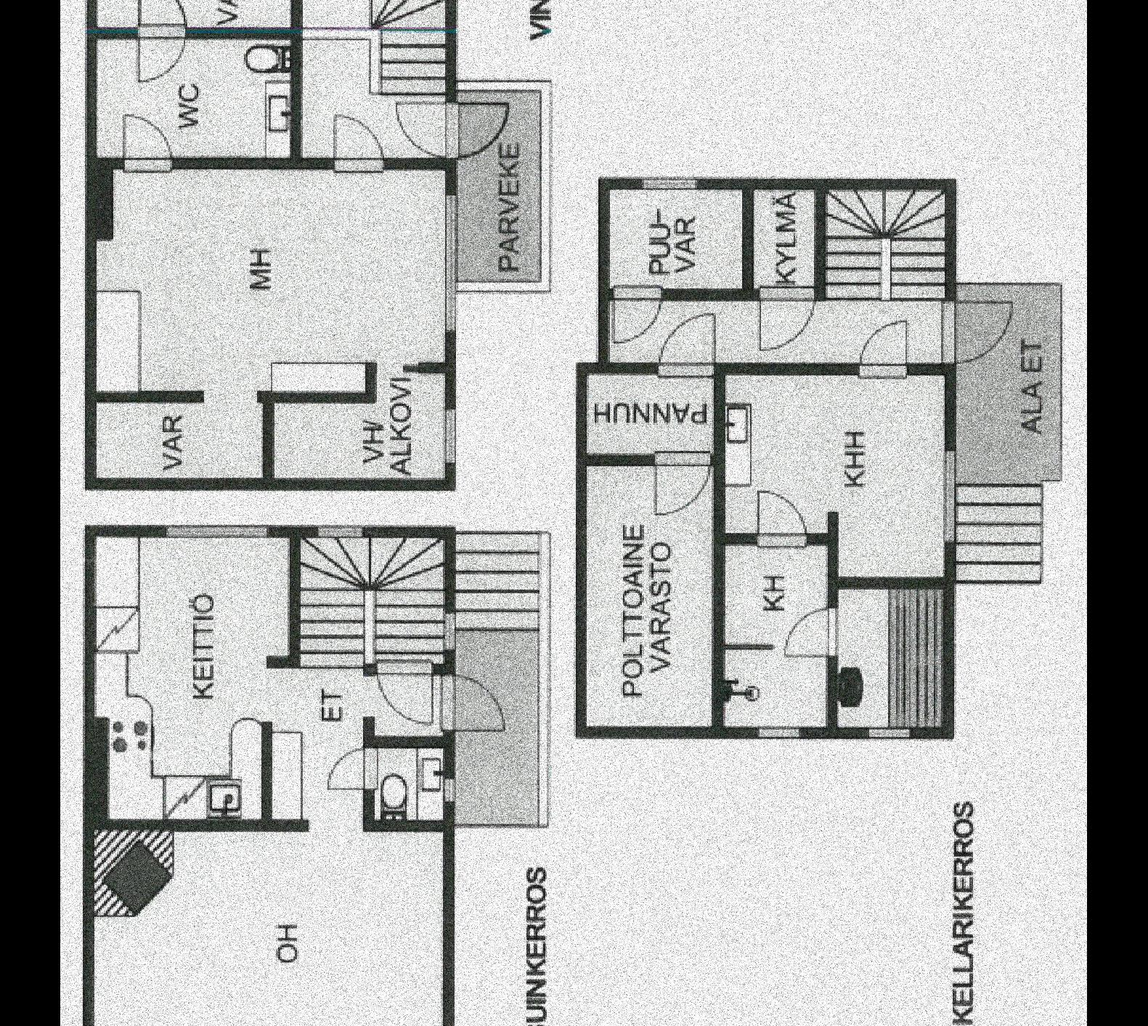door: (394, 91, 510, 153), (377, 635, 446, 725), (934, 293, 1022, 363), (132, 0, 193, 92), (655, 307, 724, 386), (859, 308, 920, 391), (756, 286, 819, 354), (650, 450, 711, 520), (446, 667, 507, 732), (754, 486, 814, 551), (119, 106, 173, 175), (614, 272, 665, 345), (333, 111, 385, 173), (325, 749, 385, 799)
window: (441, 191, 461, 328), (169, 521, 268, 537), (941, 453, 959, 535), (639, 175, 696, 193), (864, 725, 917, 744), (442, 409, 461, 461), (761, 726, 797, 740), (317, 526, 357, 538), (444, 774, 456, 801), (445, 616, 455, 647)
zone: (92, 543, 444, 1026), (95, 167, 446, 479), (730, 378, 942, 586), (589, 459, 708, 727), (452, 531, 541, 822), (296, 0, 446, 156), (98, 39, 286, 154), (607, 300, 941, 362), (721, 545, 830, 725), (960, 284, 1054, 485), (459, 88, 539, 281), (834, 586, 941, 725), (607, 193, 745, 283), (830, 193, 938, 300), (589, 377, 711, 452), (99, 0, 296, 31), (761, 188, 811, 288)
